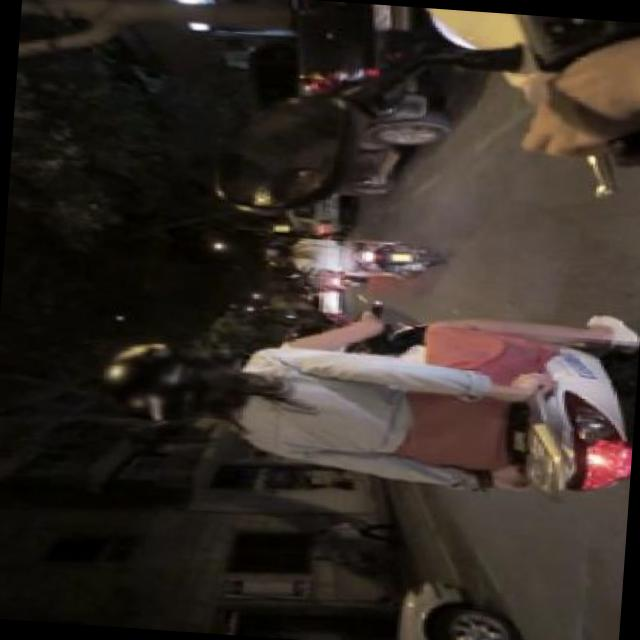With Helmet: (100, 338, 242, 419), (256, 242, 288, 260)
